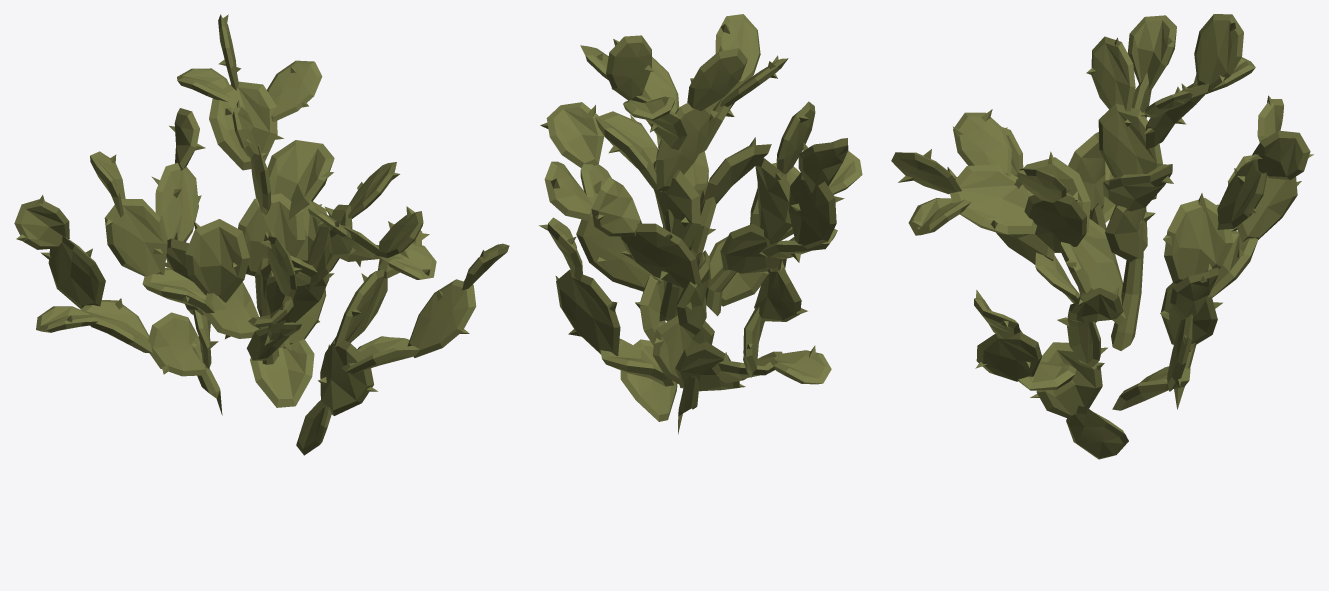
Rendered from cactus_tall.glb.
3 renders of one model, left to right at view 1: azimuth 30°, elevation 25°; view 2: azimuth 150°, elevation 25°; view 3: azimuth 270°, elevation 25°, orthographic. The views are drawn at different scales.
Parts seen in each view (by area): view 1: SM_Env_Cactus_03_LOD0; view 2: SM_Env_Cactus_03_LOD0; view 3: SM_Env_Cactus_03_LOD0.
Part boxes in pixels (box(x1,y1,x2,y2)): SM_Env_Cactus_03_LOD0: box(14, 14, 509, 455); SM_Env_Cactus_03_LOD0: box(539, 14, 862, 434); SM_Env_Cactus_03_LOD0: box(891, 14, 1313, 459).
Size of what is drawn, in the model's own units: 2.68 by 3.64 by 2.48.
1 material, 1 textured.
